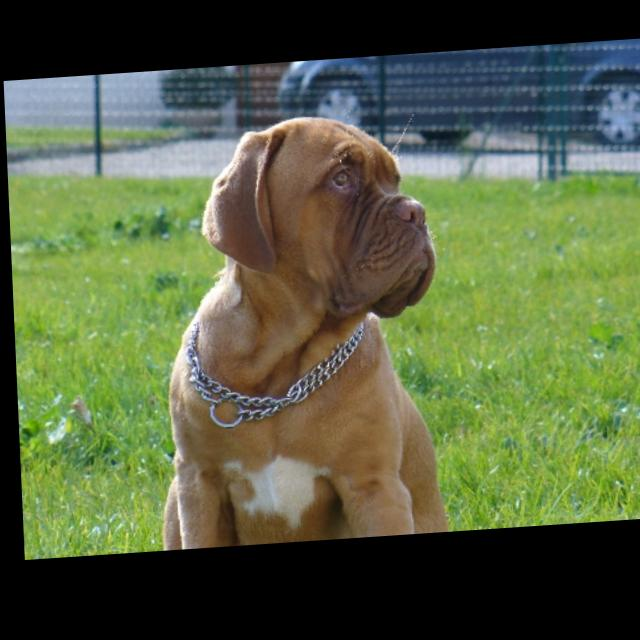dogue_de_bordeaux: (142, 113, 446, 554)
